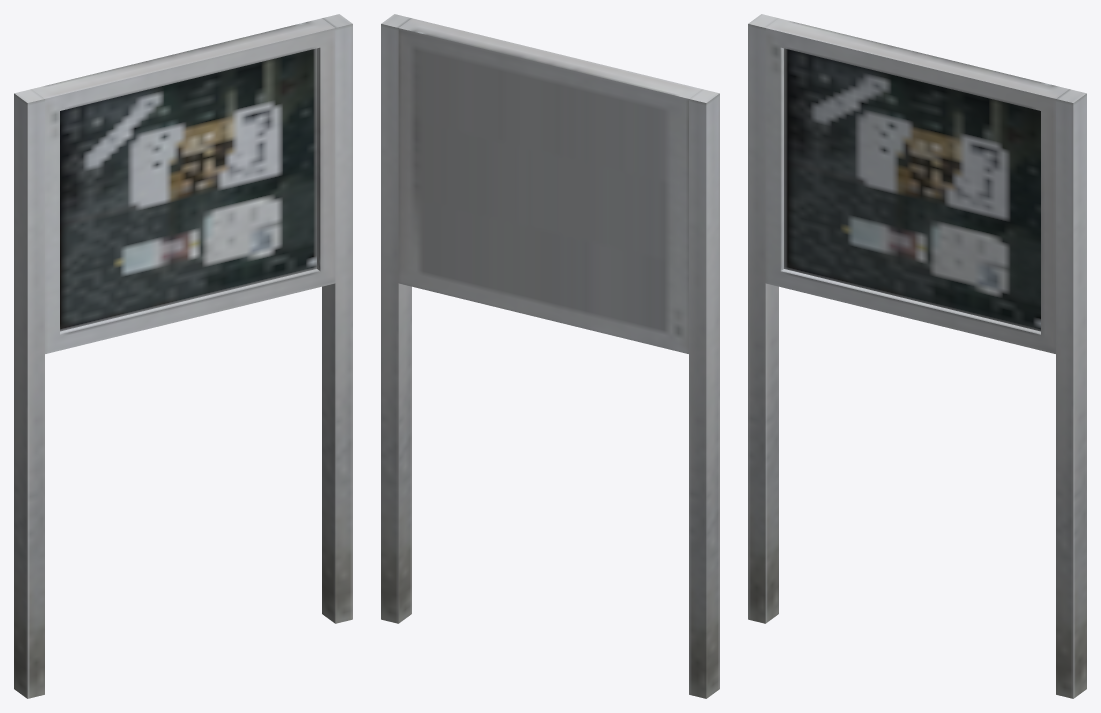
The model's file is Blackboard01.obj.
3 renders of one model, left to right at view 1: azimuth 30°, elevation 25°; view 2: azimuth 150°, elevation 25°; view 3: azimuth 330°, elevation 25°, orthographic.
Parts seen in each view (by area): view 1: Blackboard01; view 2: Blackboard01; view 3: Blackboard01.
Part boxes in pixels (left/top/right/bottom): Blackboard01: left=14, top=14, right=352, bottom=698; Blackboard01: left=381, top=14, right=719, bottom=698; Blackboard01: left=748, top=14, right=1086, bottom=698.
Size of the model in its own units: 2.8 by 4.9 by 0.2.
